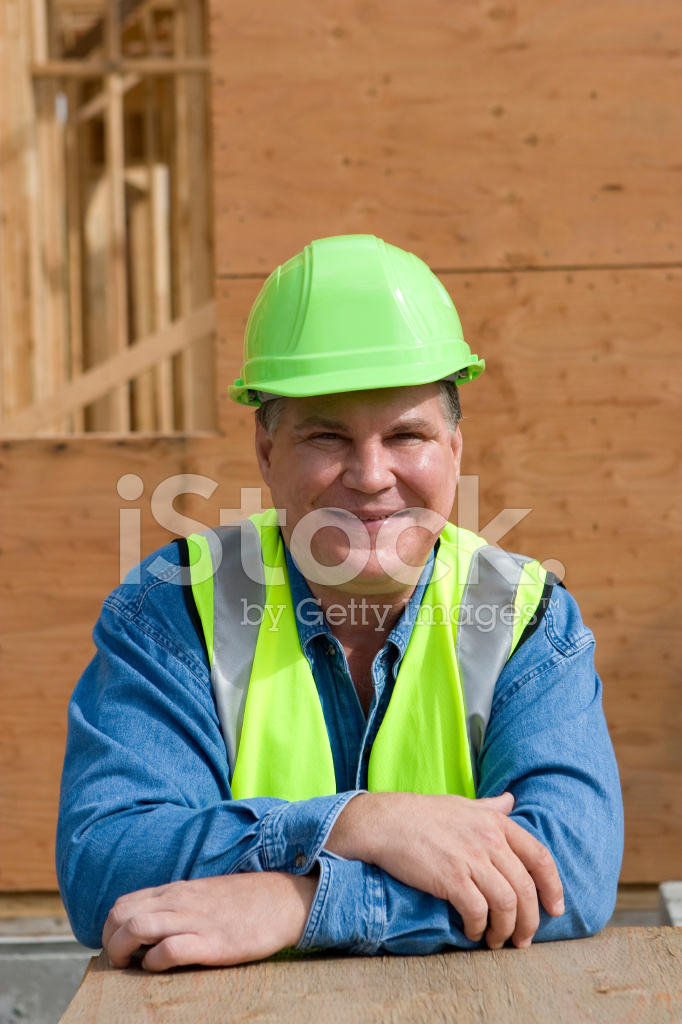safetyhat: (44, 199, 629, 972)
